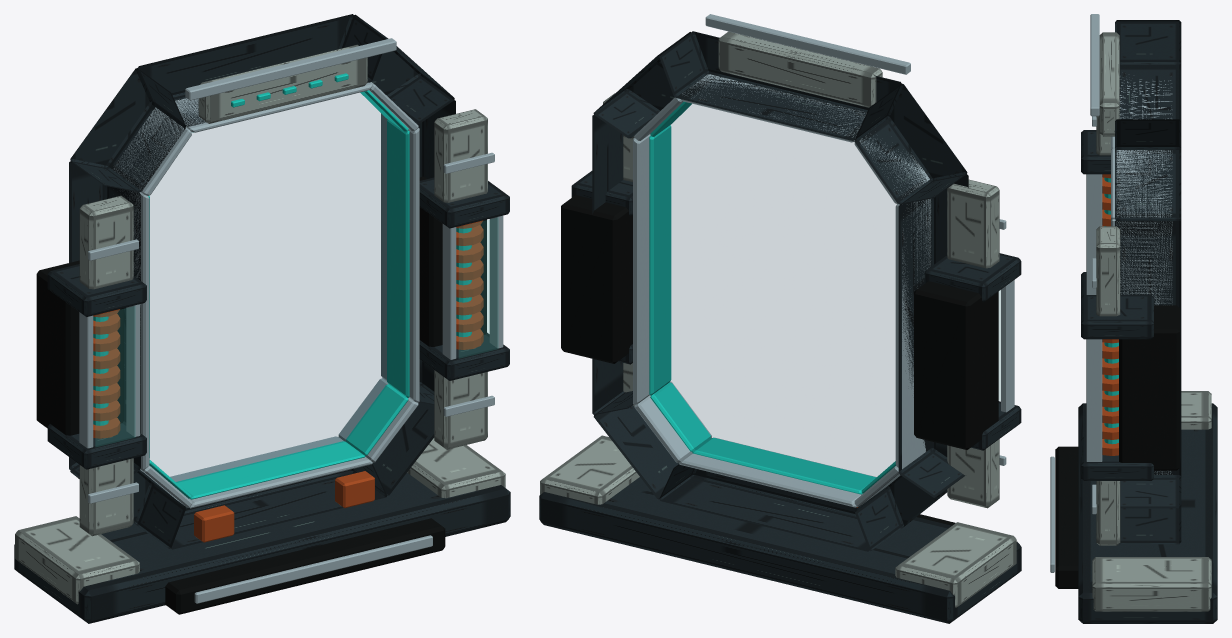
File: portal_pbr.fbx
The picture shows the model from 3 angles, left to right: view 1: azimuth 30°, elevation 25°; view 2: azimuth 150°, elevation 25°; view 3: azimuth 270°, elevation 25°; orthographic projection. The views are drawn at different scales.
Visible parts, largest first — view 1: PortalPBR_Energy_Membrane, PortalPBR_Ground_Plinth, PortalPBR_Frame_05, PortalPBR_Frame_04, PortalPBR_Front_Step, PortalPBR_Pod_Back_L, PortalPBR_Foot_L, PortalPBR_Inner_Light_02, PortalPBR_Glass_Window_L, PortalPBR_Glass_Window_R, PortalPBR_Frame_00, PortalPBR_Top_Armor (+31 smaller); view 2: PortalPBR_Energy_Membrane, PortalPBR_Ground_Plinth, PortalPBR_Pod_Back_L, PortalPBR_Pod_Back_R, PortalPBR_Frame_04, PortalPBR_Frame_00, PortalPBR_Frame_05, PortalPBR_Frame_06, PortalPBR_Top_Armor, PortalPBR_Foot_L, PortalPBR_Inner_Light_02, PortalPBR_Inner_Chrome_02 (+19 smaller); view 3: PortalPBR_Ground_Plinth, PortalPBR_Pod_Back_R, PortalPBR_Frame_02, PortalPBR_Frame_03, PortalPBR_Foot_R, PortalPBR_Frame_04, PortalPBR_Front_Step, PortalPBR_Inner_Chrome_03, PortalPBR_Pod_Cap_R_1, PortalPBR_Inner_Chrome_02, PortalPBR_Frame_01, PortalPBR_Ceramic_Shoulder_R_1 (+12 smaller).
Part boxes in pixels (x1=…): PortalPBR_Energy_Membrane: x1=150, y1=93, x2=387, y2=482; PortalPBR_Ground_Plinth: x1=14, y1=473, x2=510, y2=623; PortalPBR_Frame_05: x1=70, y1=68, x2=185, y2=192; PortalPBR_Frame_04: x1=138, y1=14, x2=386, y2=126; PortalPBR_Front_Step: x1=165, y1=518, x2=445, y2=614; PortalPBR_Pod_Back_L: x1=36, y1=260, x2=123, y2=435; PortalPBR_Foot_L: x1=15, y1=516, x2=139, y2=604; PortalPBR_Inner_Light_02: x1=387, y1=119, x2=409, y2=397; PortalPBR_Glass_Window_L: x1=95, y1=306, x2=135, y2=446; PortalPBR_Glass_Window_R: x1=459, y1=218, x2=498, y2=358; PortalPBR_Frame_00: x1=171, y1=464, x2=387, y2=549; PortalPBR_Top_Armor: x1=198, y1=44, x2=367, y2=123; PortalPBR_Energy_Membrane: x1=654, y1=103, x2=896, y2=489; PortalPBR_Ground_Plinth: x1=539, y1=477, x2=1021, y2=623; PortalPBR_Pod_Back_L: x1=914, y1=281, x2=998, y2=449; PortalPBR_Pod_Back_R: x1=561, y1=195, x2=632, y2=363; PortalPBR_Frame_04: x1=659, y1=31, x2=901, y2=140; PortalPBR_Frame_00: x1=659, y1=464, x2=869, y2=551; PortalPBR_Frame_05: x1=855, y1=83, x2=967, y2=204; PortalPBR_Frame_06: x1=898, y1=174, x2=968, y2=497; PortalPBR_Top_Armor: x1=718, y1=31, x2=882, y2=107; PortalPBR_Foot_L: x1=895, y1=522, x2=1016, y2=607; PortalPBR_Inner_Light_02: x1=649, y1=125, x2=671, y2=395; PortalPBR_Inner_Chrome_02: x1=633, y1=134, x2=650, y2=404; PortalPBR_Ground_Plinth: x1=1078, y1=403, x2=1217, y2=623; PortalPBR_Pod_Back_R: x1=1119, y1=305, x2=1179, y2=470; PortalPBR_Frame_02: x1=1115, y1=220, x2=1181, y2=508; PortalPBR_Frame_03: x1=1115, y1=119, x2=1181, y2=220; PortalPBR_Foot_R: x1=1092, y1=557, x2=1211, y2=611; PortalPBR_Frame_04: x1=1115, y1=20, x2=1181, y2=120; PortalPBR_Front_Step: x1=1055, y1=446, x2=1078, y2=588; PortalPBR_Inner_Chrome_03: x1=1111, y1=149, x2=1172, y2=219; PortalPBR_Pod_Cap_R_1: x1=1081, y1=295, x2=1153, y2=339; PortalPBR_Inner_Chrome_02: x1=1111, y1=219, x2=1172, y2=474; PortalPBR_Frame_01: x1=1119, y1=506, x2=1181, y2=544; PortalPBR_Ceramic_Shoulder_R_1: x1=1096, y1=226, x2=1120, y2=316.
Size of the model in its own units: 348 by 390 by 126.
Materials: 8 (8 with a texture image).
